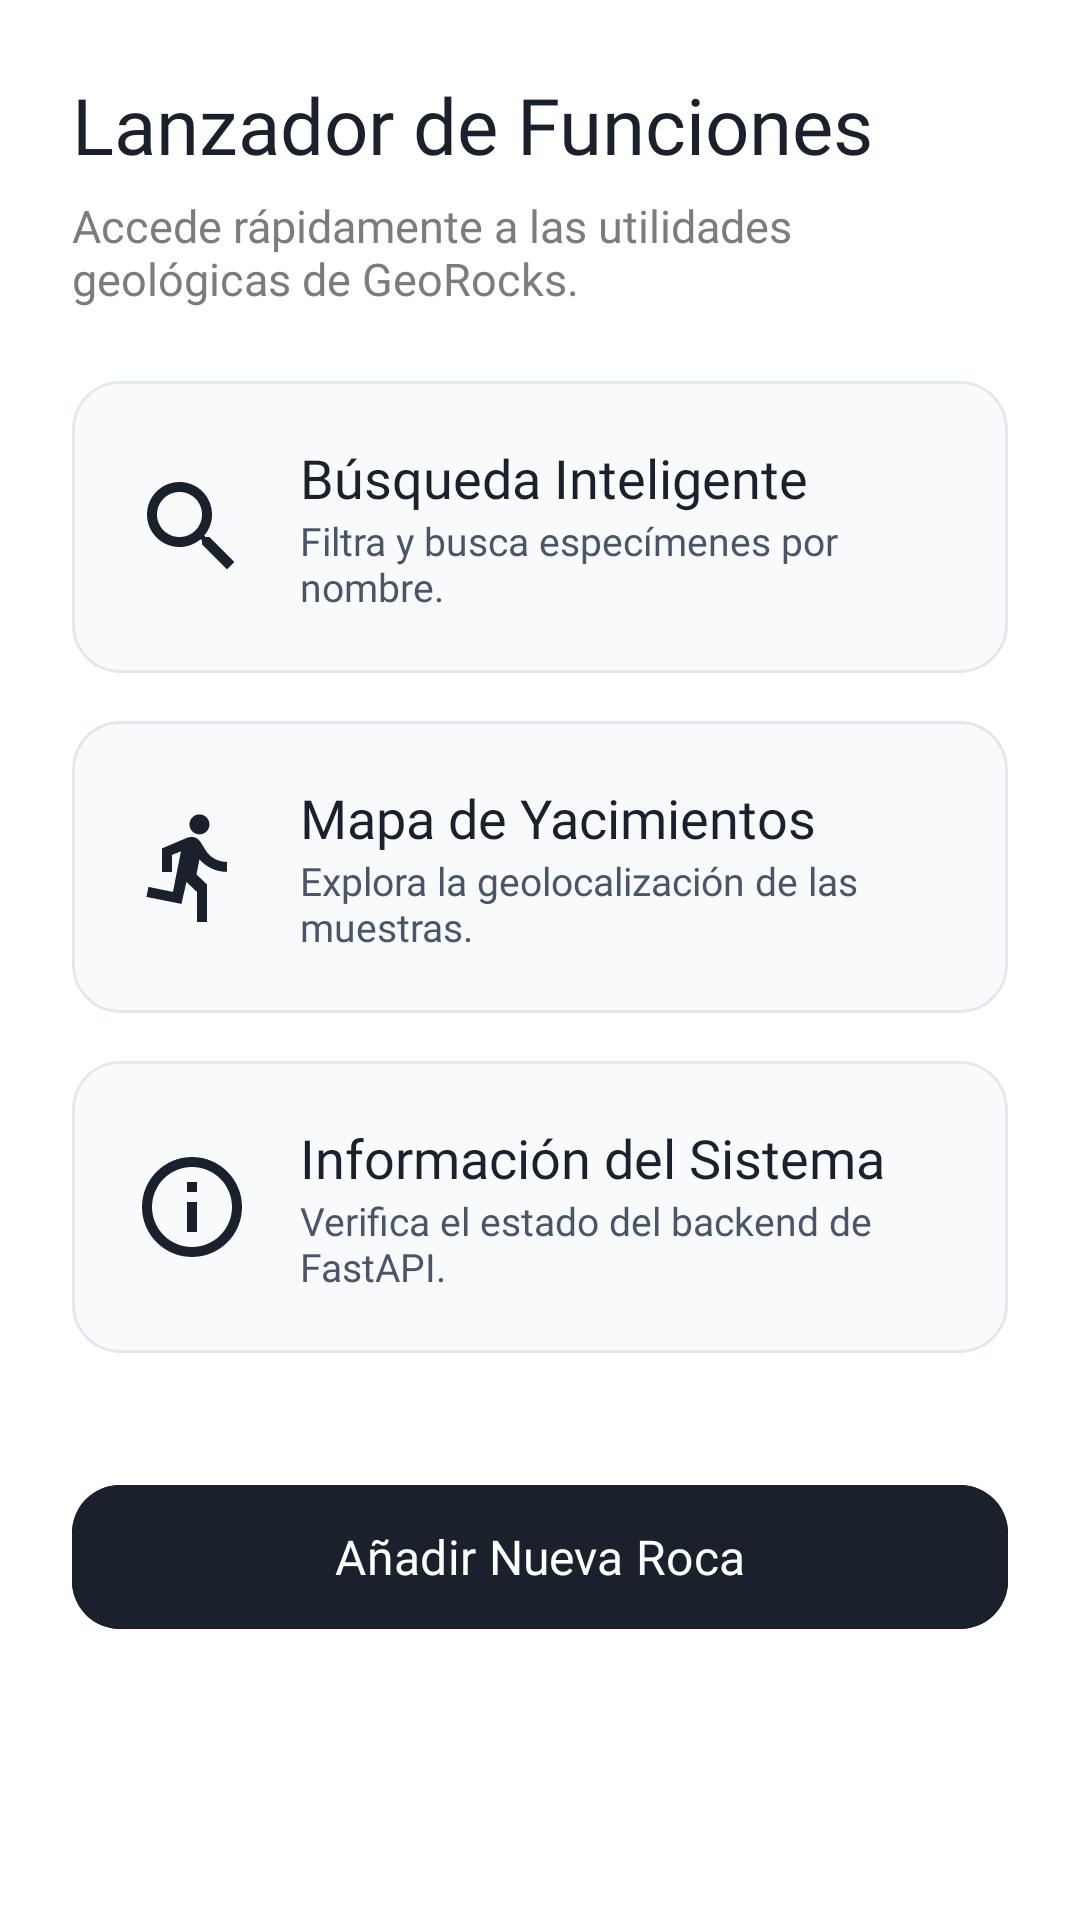

Point at icon controls on the screen. Image size 1080w x 1920h, points as point (x, y).
directions: point (186, 868)
search: point (190, 525)
